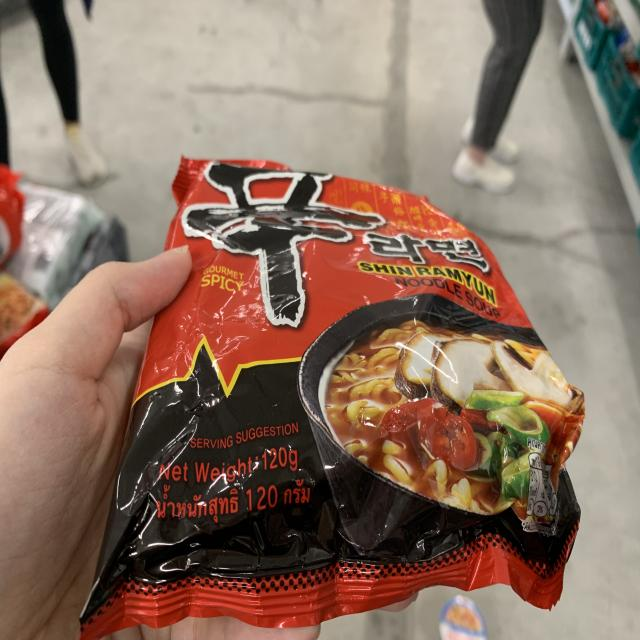object_name: (173, 161, 557, 598)
